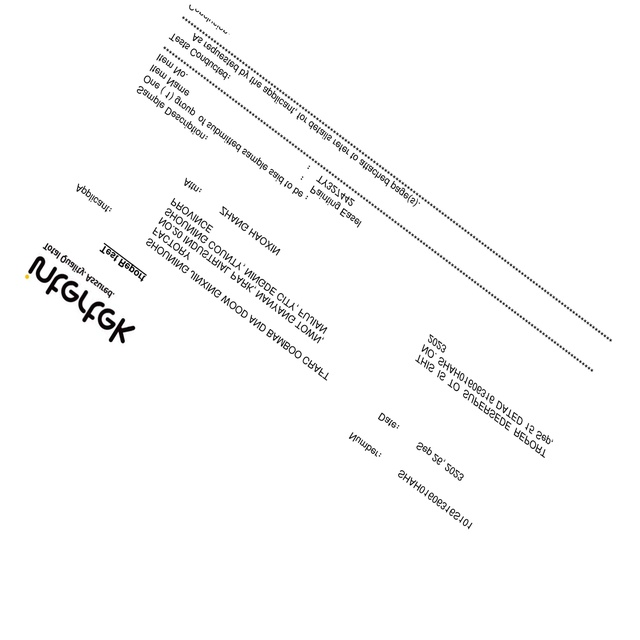intertek: (22, 252, 138, 352)
